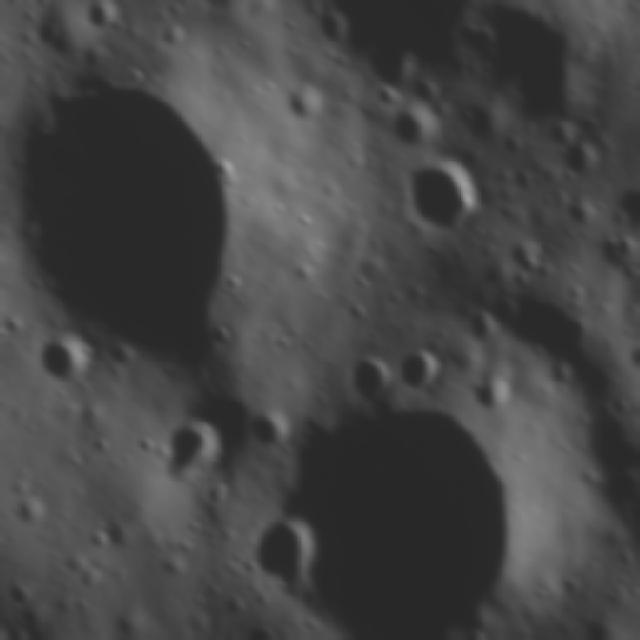crater: (216, 346, 555, 640), (0, 80, 262, 391), (311, 0, 487, 102), (233, 513, 319, 615), (394, 170, 488, 238), (22, 330, 103, 395), (334, 346, 395, 417), (157, 428, 226, 488), (392, 344, 452, 398), (392, 112, 446, 162), (594, 470, 640, 527), (556, 148, 606, 186), (468, 382, 515, 422), (80, 0, 127, 38), (562, 196, 602, 236), (615, 186, 640, 243), (192, 0, 248, 20)
